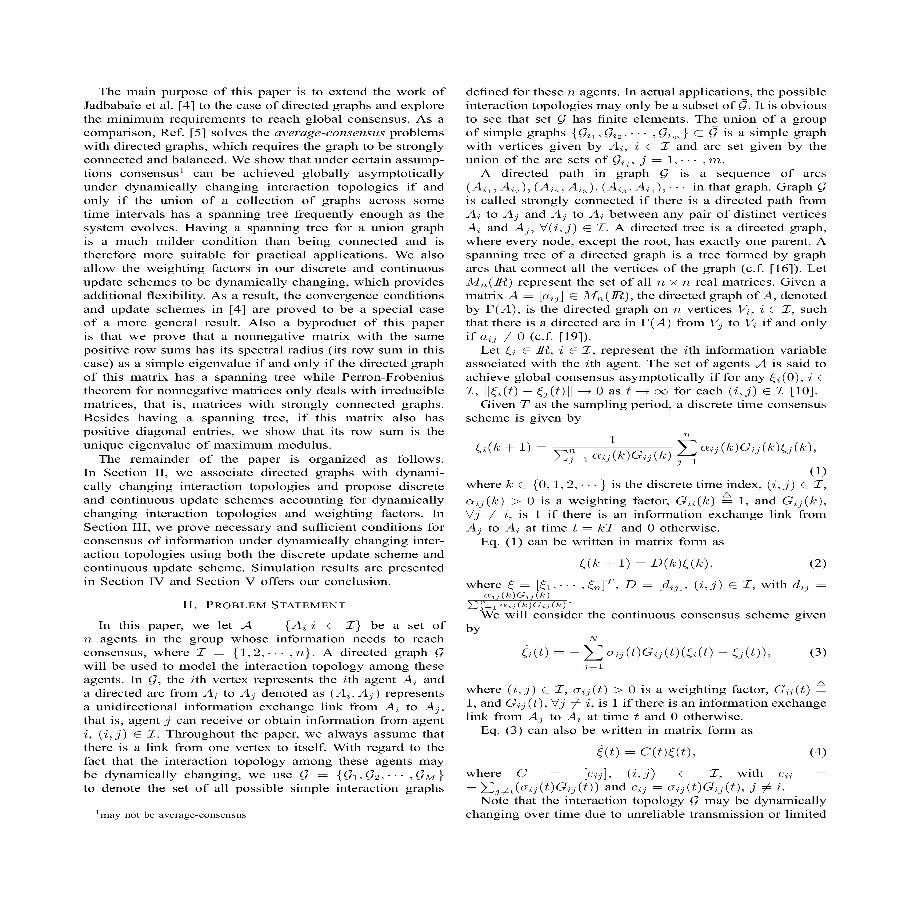eq: (471, 431, 814, 469), (515, 634, 768, 673), (576, 549, 710, 574), (590, 738, 692, 763)
